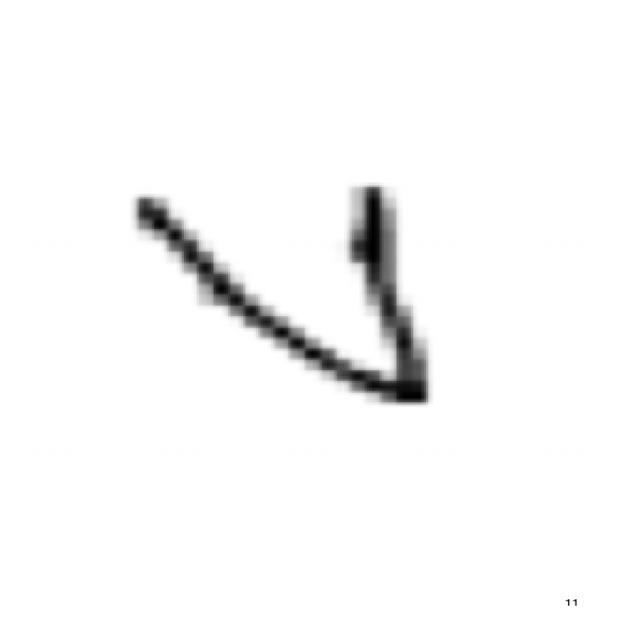7 -seven-: (107, 177, 450, 425)
